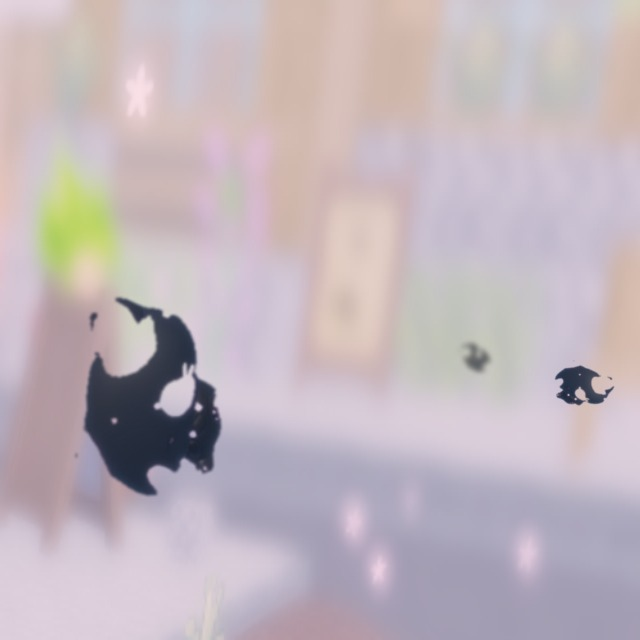urso_preto: (53, 266, 243, 530), (539, 350, 627, 422), (450, 332, 500, 384)
